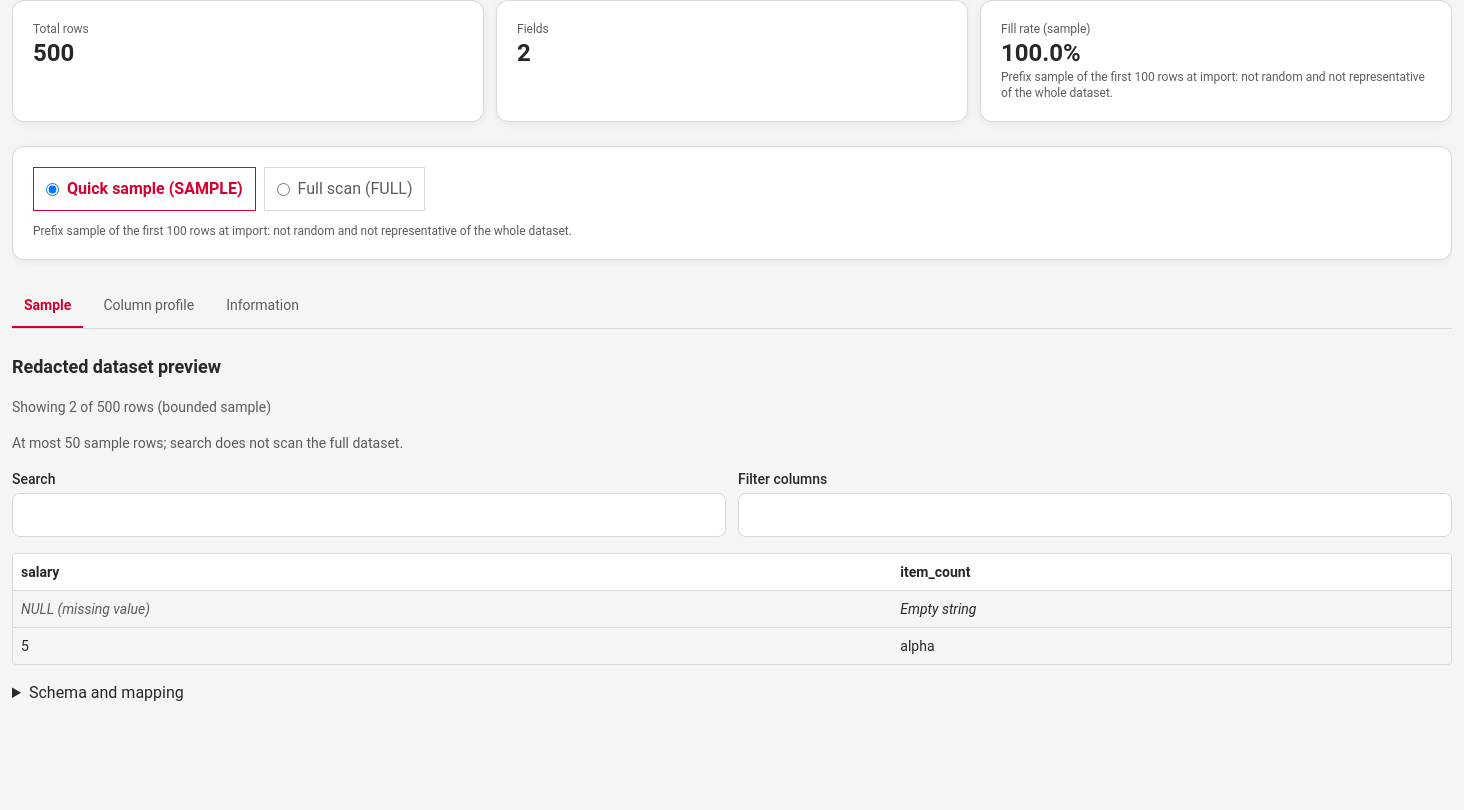
Scenario: sample search filters only the shown rows and distinguishes null from empty
Click the tab "Column profile" at (149, 306), box [91, 284, 206, 328]
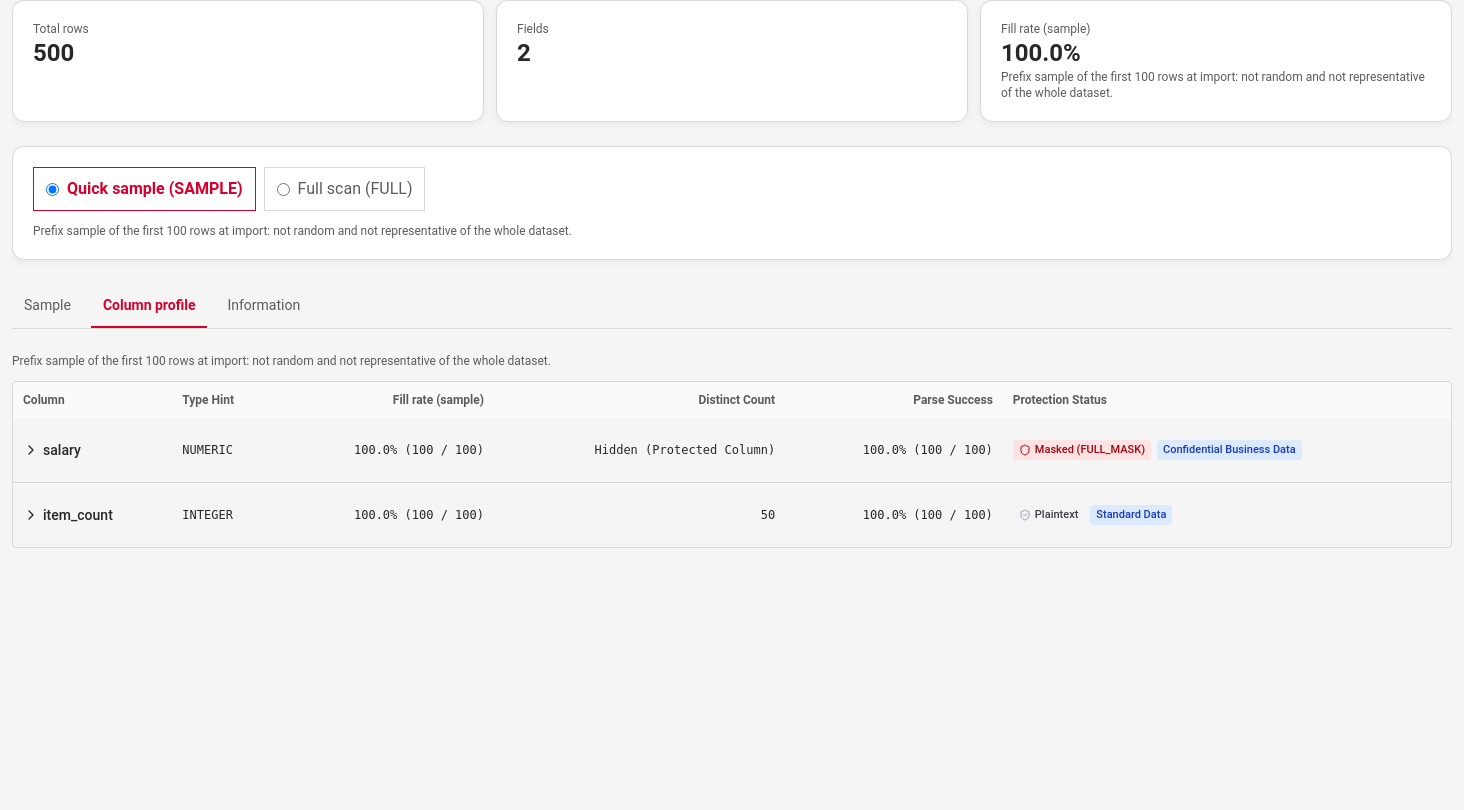
Click the tab "Sample" at (47, 306), box [12, 284, 83, 328]
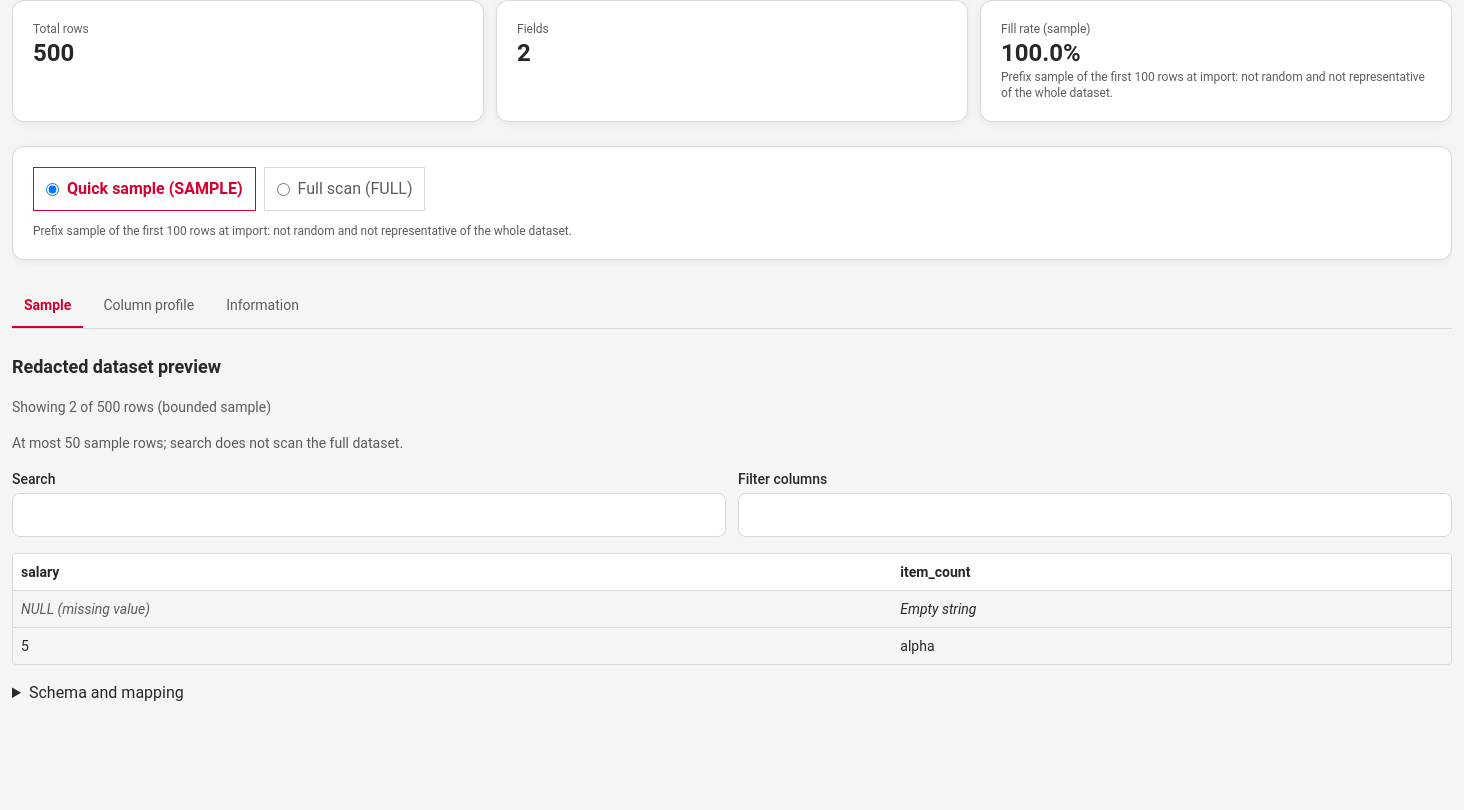
Expected: the text "NULL (missing value)" is shown, [21, 601, 150, 617]
Expected: the text "Empty string" is shown, [900, 601, 976, 617]
Expected: the message shows "2", [12, 399, 271, 415]
Type "zzz" into the search field labelled "Search" at (369, 515), box [12, 493, 726, 537]
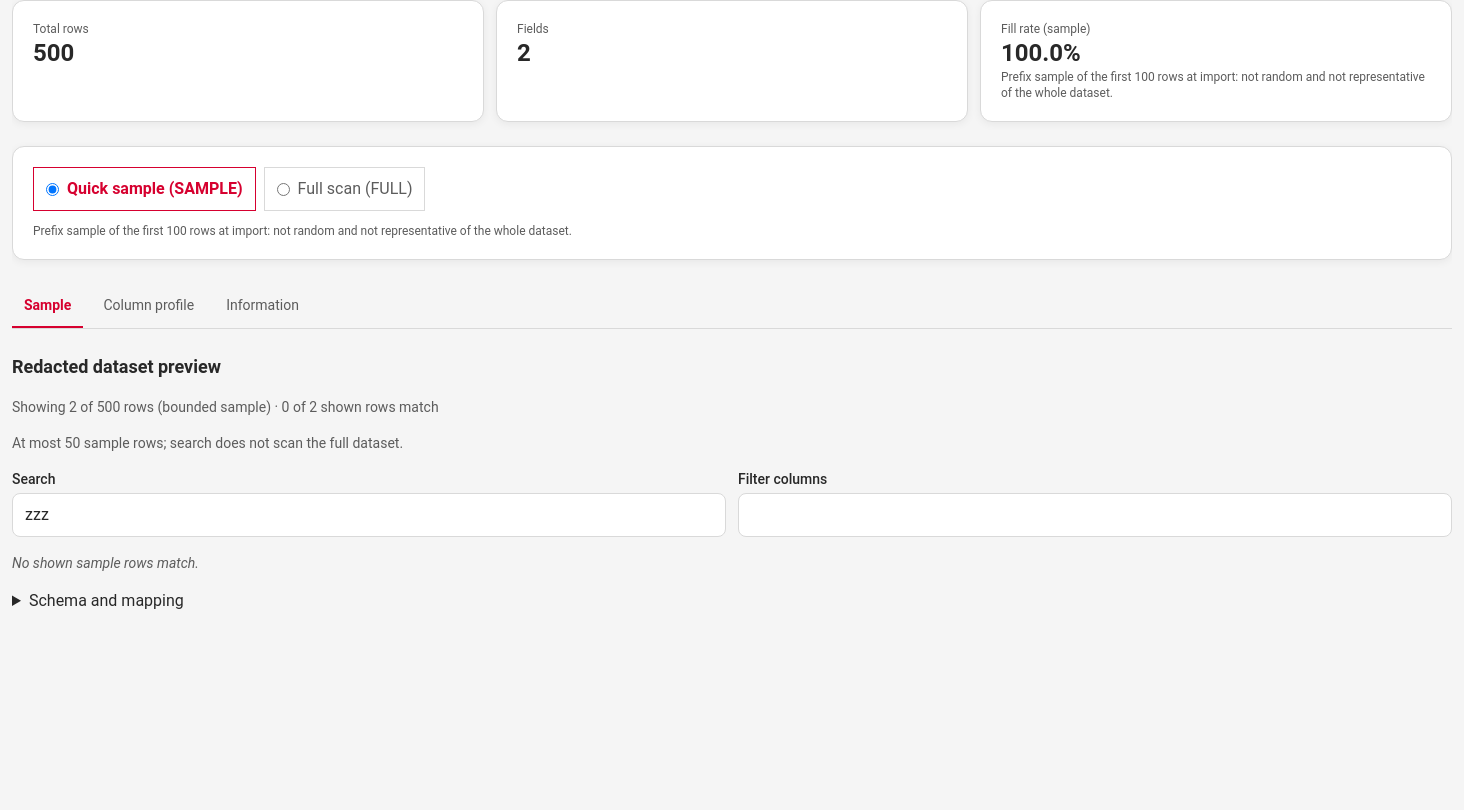
Expected: the table is gone
Replace the text in the search field labelled "Search" with "alpha" at (369, 515), box [12, 493, 726, 537]
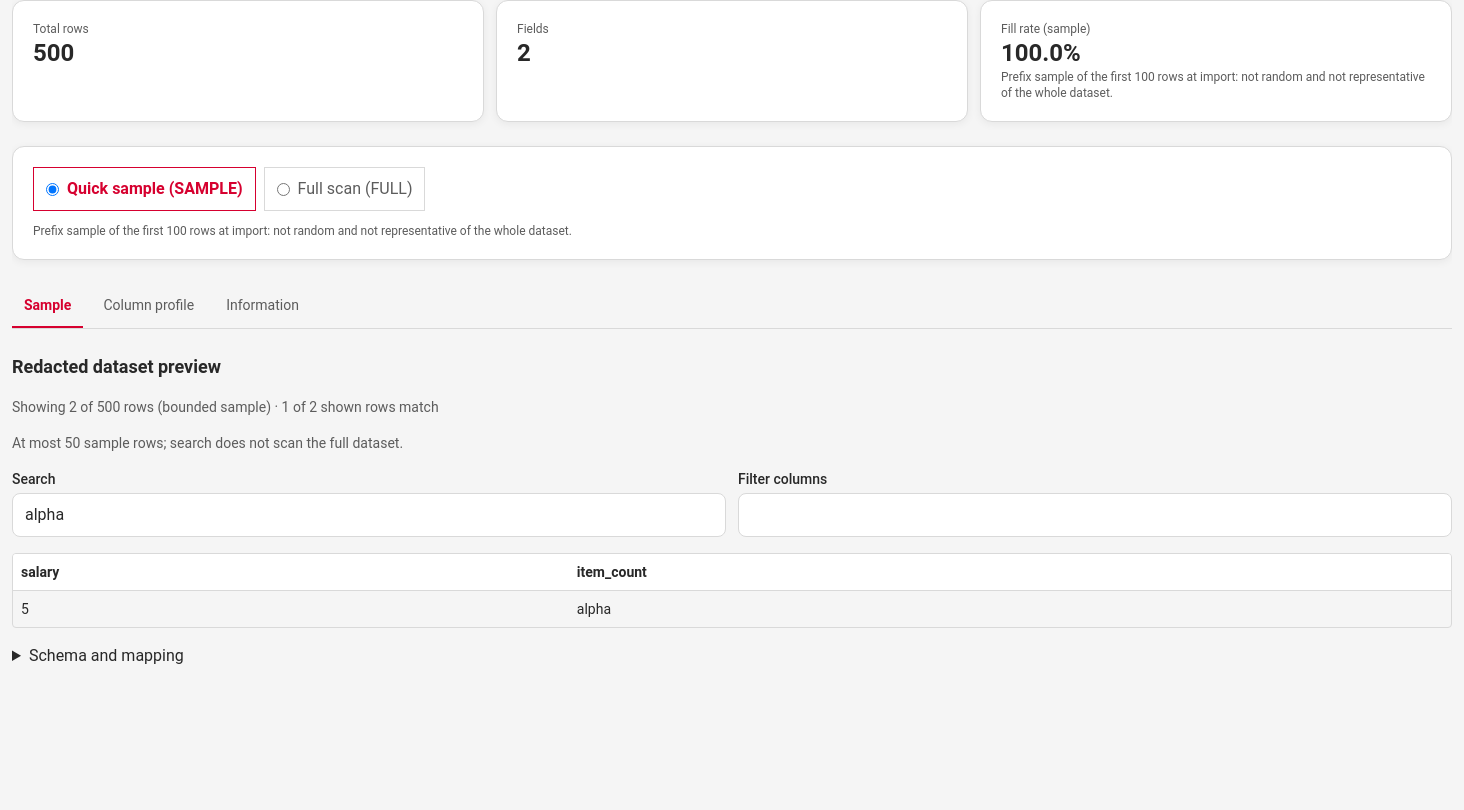
Expected: the number of rows is 2, [13, 554, 1451, 590]; [13, 590, 1451, 627]
